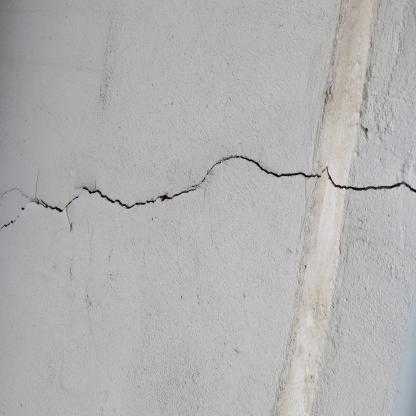crack: (2, 152, 414, 235)
